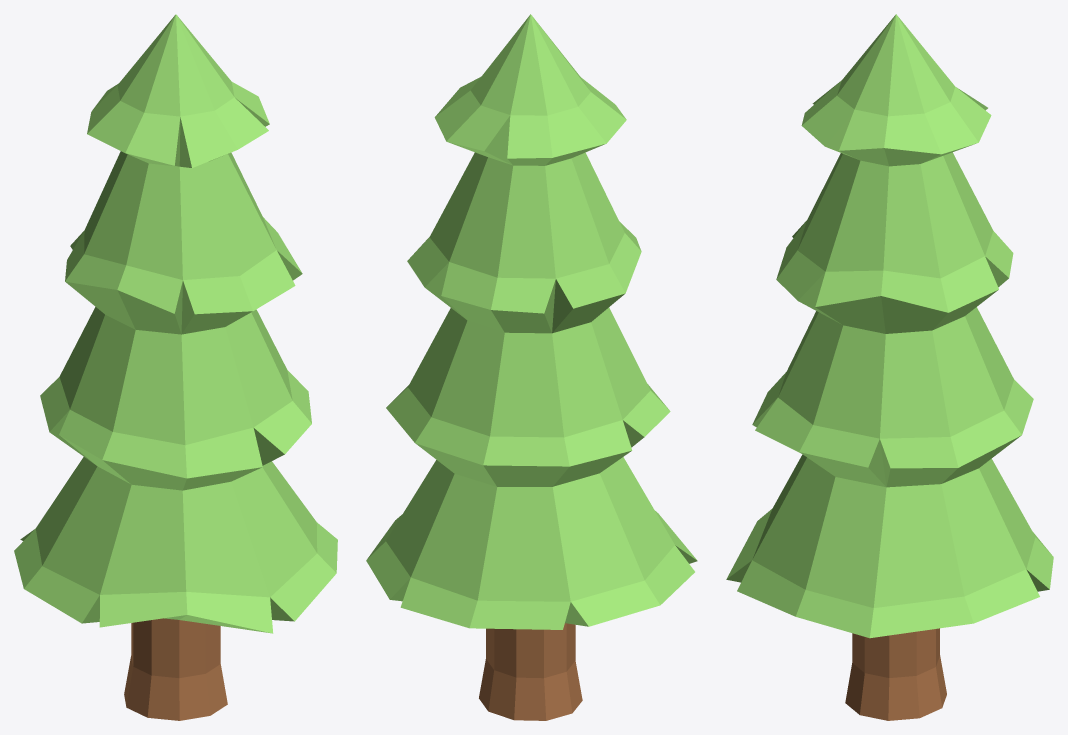
File: Tree3.1.fbx
3 renders of one model, left to right at view 1: azimuth 30°, elevation 25°; view 2: azimuth 150°, elevation 25°; view 3: azimuth 270°, elevation 25°, orthographic.
Parts seen in each view (by area): view 1: Tree3.1; view 2: Tree3.1; view 3: Tree3.1.
Boxes of the visible parts, bbox=[...] form: Tree3.1: bbox=[14, 14, 337, 720]; Tree3.1: bbox=[366, 14, 697, 720]; Tree3.1: bbox=[726, 14, 1053, 720].
Size of the model in its own units: 277 by 625 by 271.
